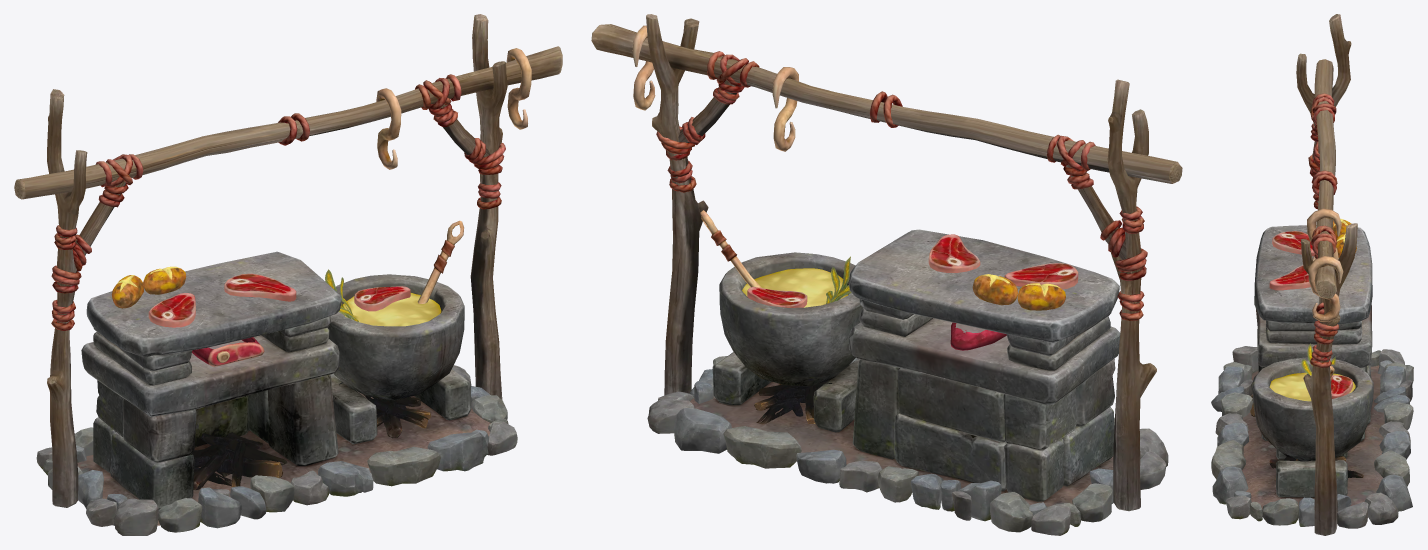
3 views of the same model, side by side, from view 1: azimuth 30°, elevation 25°; view 2: azimuth 150°, elevation 25°; view 3: azimuth 270°, elevation 25° (orthographic). The views are drawn at different scales.
Visible parts, largest first — view 1: SM_Cooking_Range_Active_02_LOD0; view 2: SM_Cooking_Range_Active_02_LOD0; view 3: SM_Cooking_Range_Active_02_LOD0.
Part boxes in pixels (box(x1,y1,x2,y2)): SM_Cooking_Range_Active_02_LOD0: box(14, 14, 562, 535); SM_Cooking_Range_Active_02_LOD0: box(591, 14, 1182, 535); SM_Cooking_Range_Active_02_LOD0: box(1211, 14, 1413, 535).
Bounding box in the file's own units: 2.5 × 1.82 × 0.9592.
Materials: 2 (2 with a texture image).
